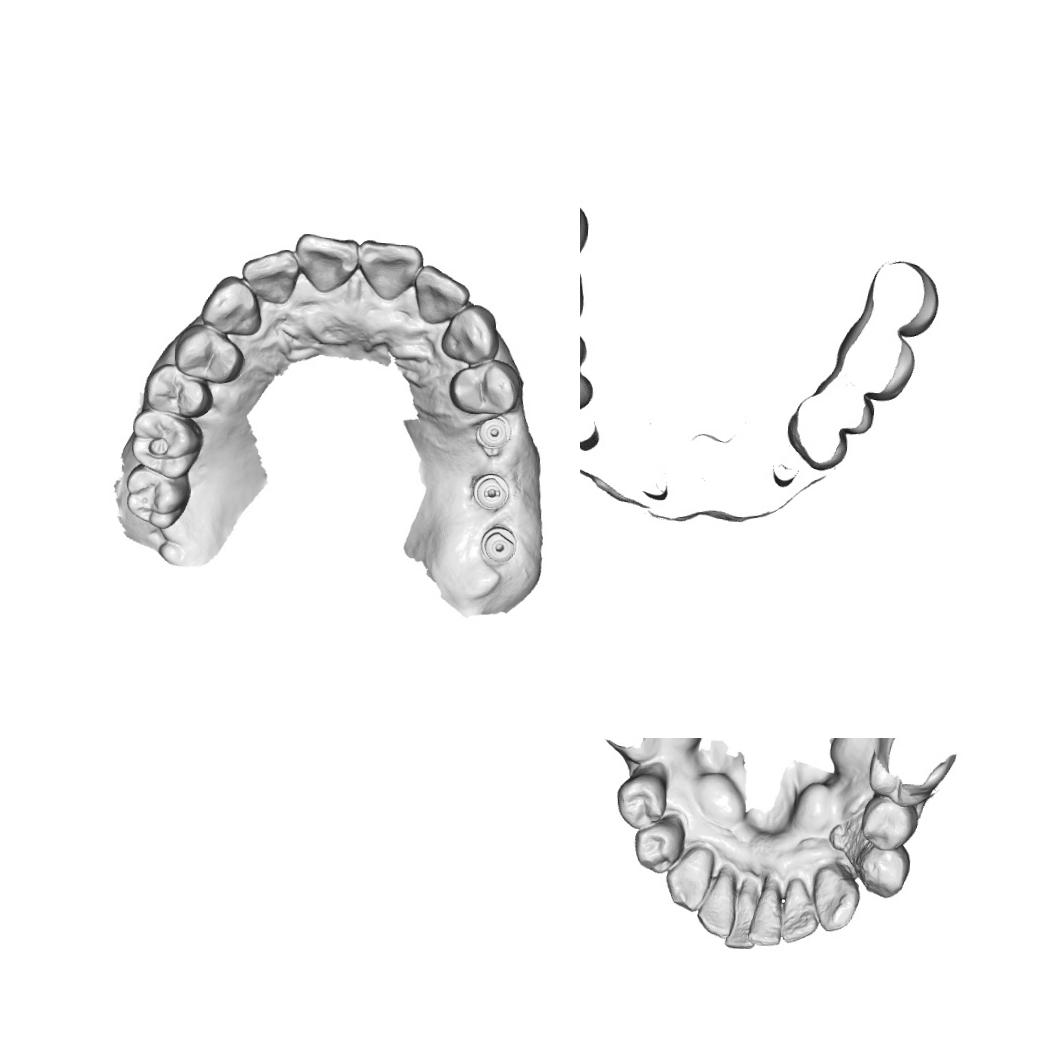canine: (437, 300, 504, 368), (198, 273, 266, 337), (662, 844, 717, 914), (810, 864, 862, 934)
implant: (476, 522, 520, 566), (473, 409, 512, 452)
implant_minus: (468, 468, 514, 513)
incisor: (355, 236, 423, 303), (292, 230, 361, 296), (412, 262, 473, 328), (238, 245, 300, 306), (778, 874, 821, 946), (693, 871, 739, 938), (746, 887, 785, 949), (722, 888, 758, 950)
molar: (125, 405, 207, 481), (120, 461, 194, 531)
premolar: (170, 321, 247, 386), (444, 356, 522, 419), (139, 359, 216, 420), (853, 842, 918, 900), (856, 794, 918, 854), (612, 769, 670, 831), (629, 812, 686, 875)
